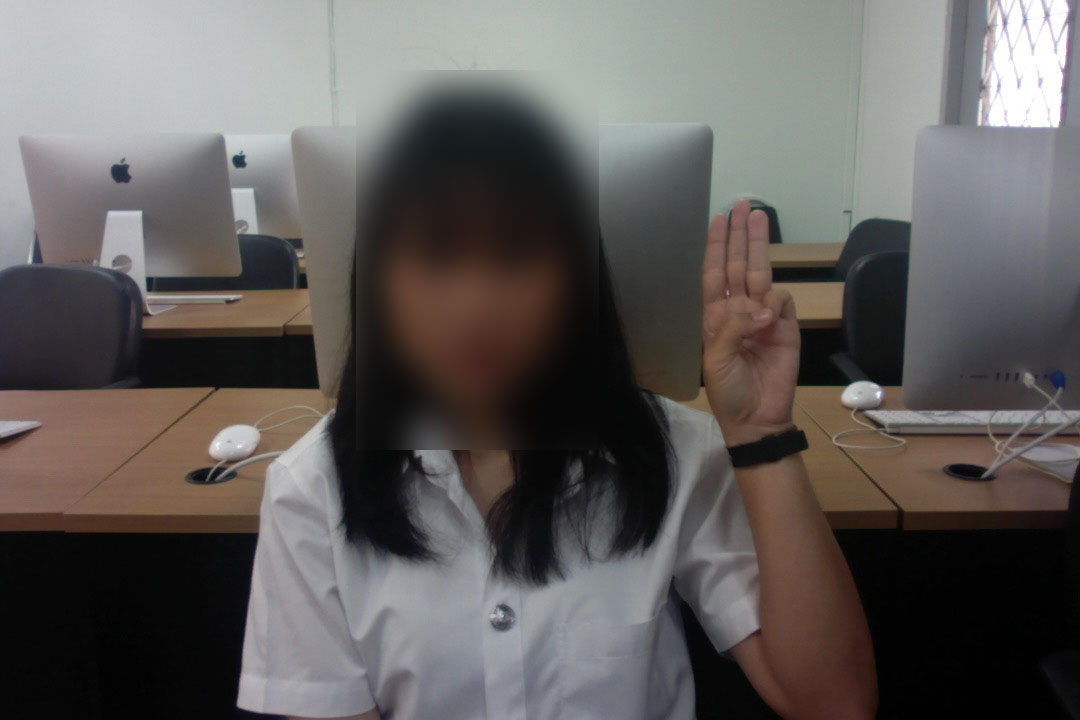wor: (688, 196, 818, 435)
